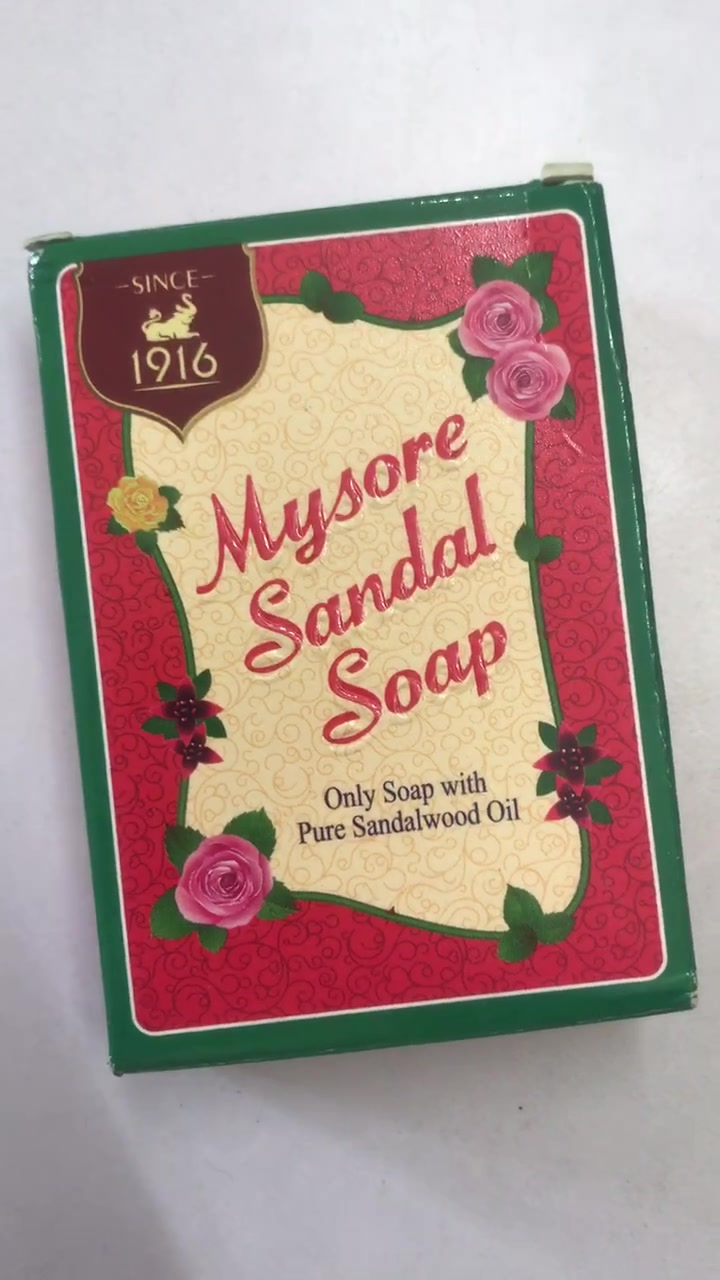mysore sandal soap: (31, 182, 702, 1082)
